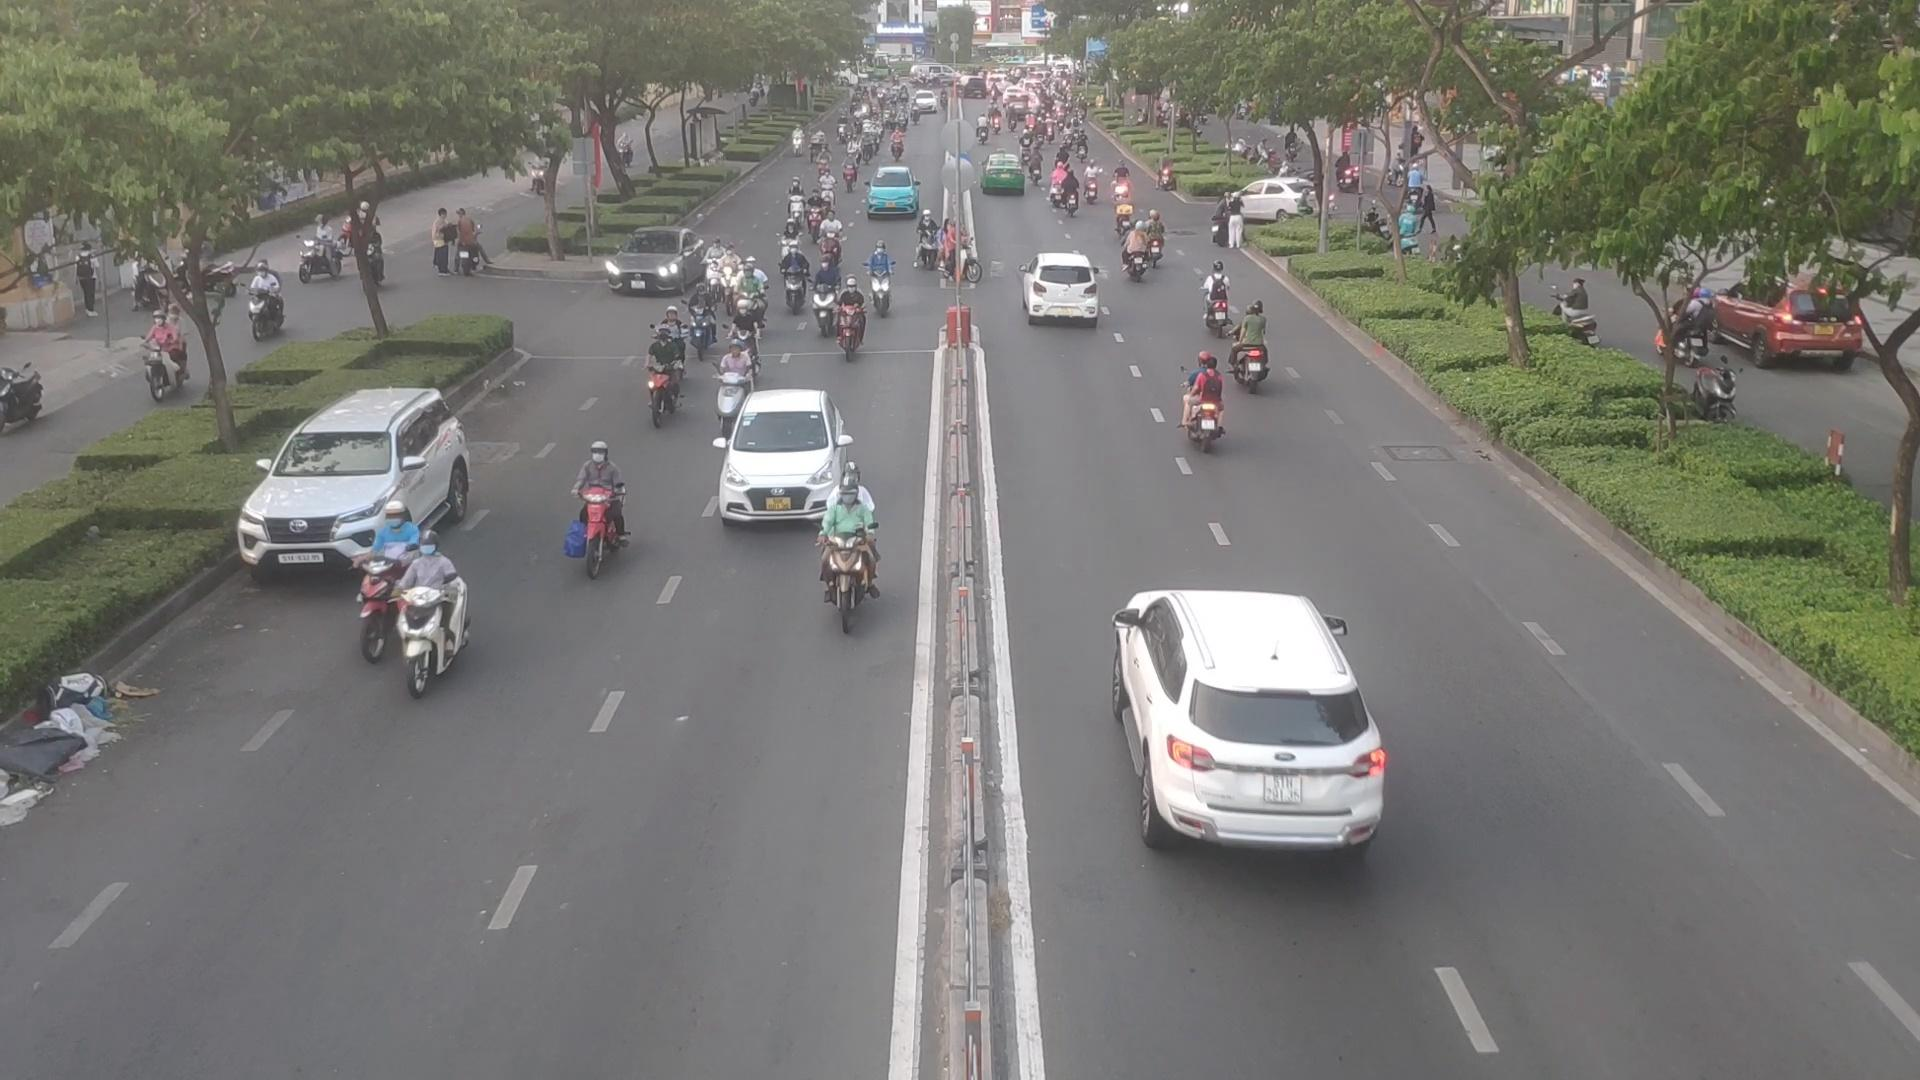car: (1106, 592, 1390, 855), (231, 382, 488, 578), (712, 388, 848, 527), (605, 229, 713, 298), (1026, 251, 1106, 326), (1233, 179, 1317, 225), (862, 167, 924, 223), (981, 156, 1029, 198)
motorbike: (357, 564, 471, 694), (567, 442, 626, 585), (357, 506, 410, 645), (828, 467, 882, 601), (1184, 351, 1222, 452), (646, 328, 687, 419), (712, 345, 749, 436), (1238, 301, 1273, 396), (938, 224, 980, 287), (727, 306, 764, 377), (731, 257, 770, 322), (869, 237, 898, 316), (1203, 262, 1233, 338), (837, 280, 865, 357), (810, 265, 837, 340), (687, 284, 717, 352), (778, 245, 806, 313), (1122, 222, 1147, 282), (1142, 208, 1167, 268), (720, 243, 742, 309), (818, 211, 843, 266), (703, 240, 727, 297), (773, 222, 803, 265), (916, 210, 936, 270), (783, 174, 804, 228), (1106, 160, 1129, 203), (1083, 165, 1102, 207), (1064, 174, 1083, 219), (808, 189, 822, 243), (819, 169, 835, 214), (1113, 204, 1134, 236), (1048, 169, 1063, 208)
